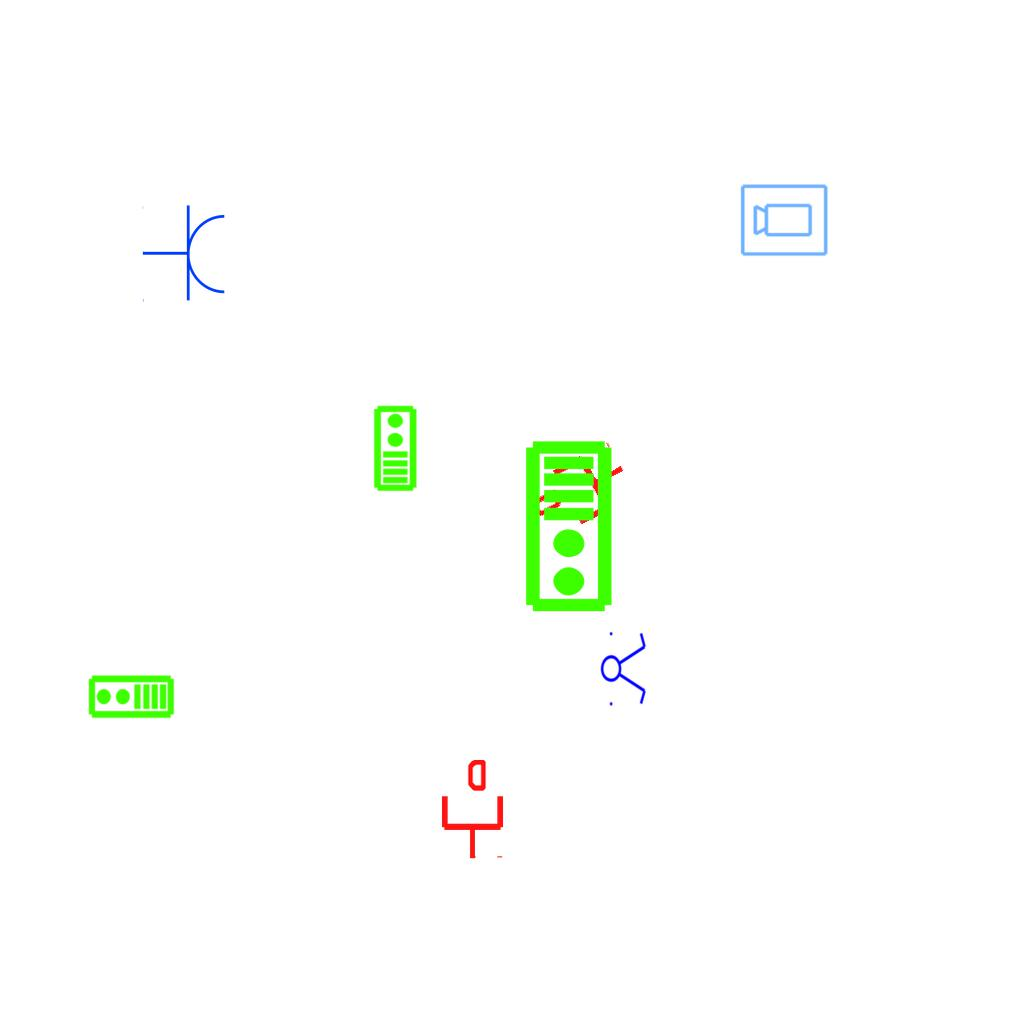Datenanschluss_einfach: (519, 437, 640, 545), (438, 760, 507, 860)
Gegensprechanlage_mit_Video: (523, 439, 618, 615), (87, 674, 175, 721), (371, 404, 418, 492)
KFO_Kamera_mit_Festobjektiv: (739, 181, 830, 258)
Schukosteckdose_einfach: (142, 204, 229, 304)
Serienschalter: (600, 626, 648, 710)
